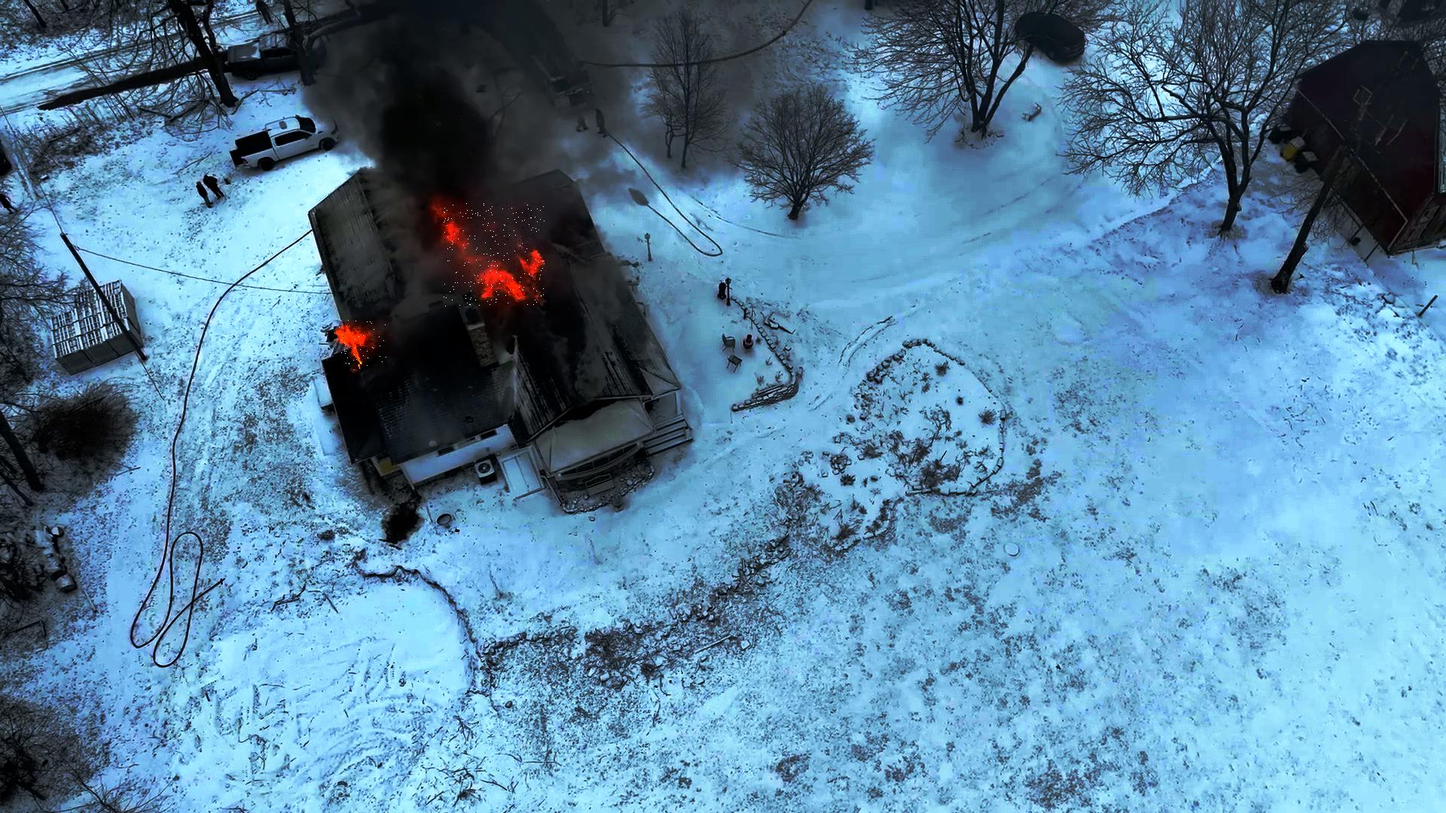fire: (443, 203, 545, 306), (334, 320, 386, 366)
